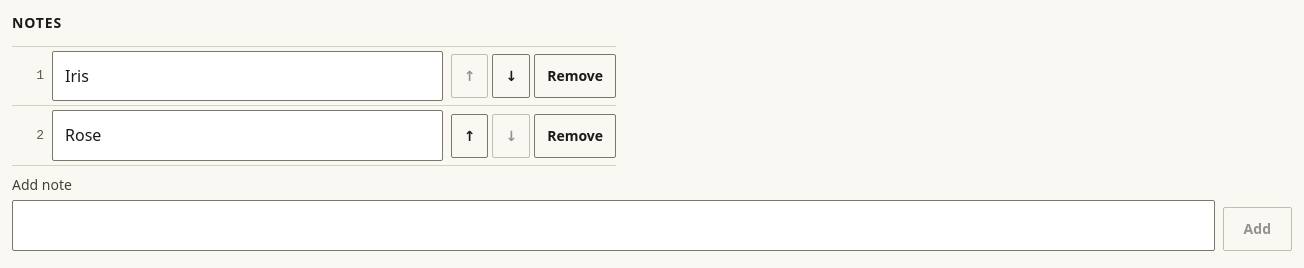
EntryListField › edits an entry in place and moves focus when one is removed
Replace the text in the field named "Note 1" with "Orris" at (247, 76), box left=52, top=51, right=443, bottom=102
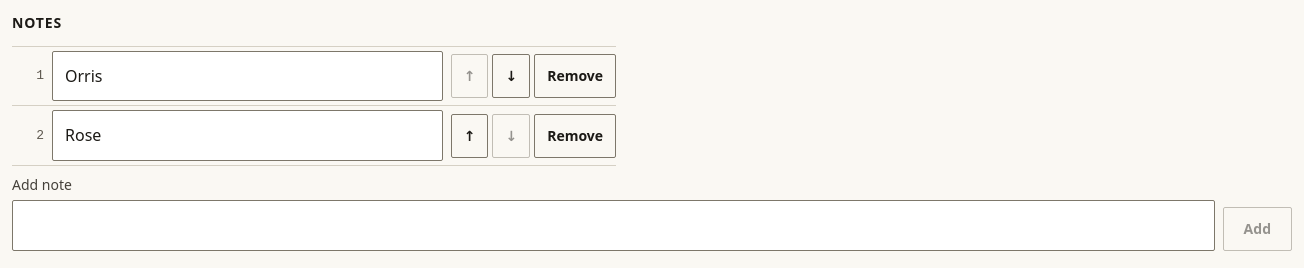
Click the button with aria-label "Remove Orris".
click(575, 76)  # box left=534, top=54, right=616, bottom=98
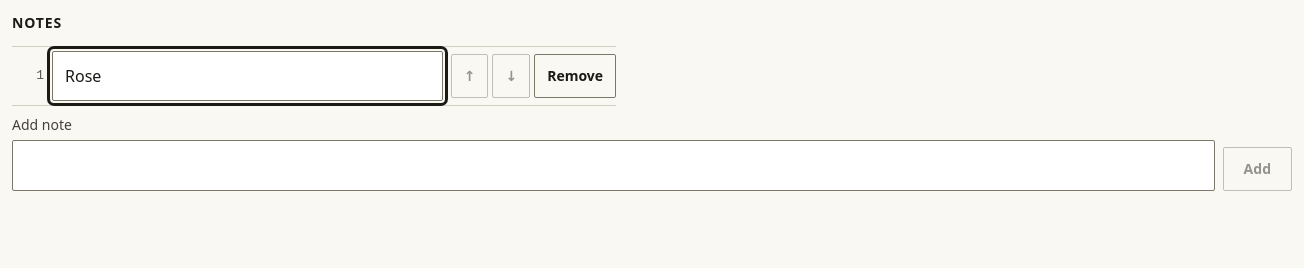
Now the field named "Note 1" holds "Rose", box left=52, top=51, right=443, bottom=102
